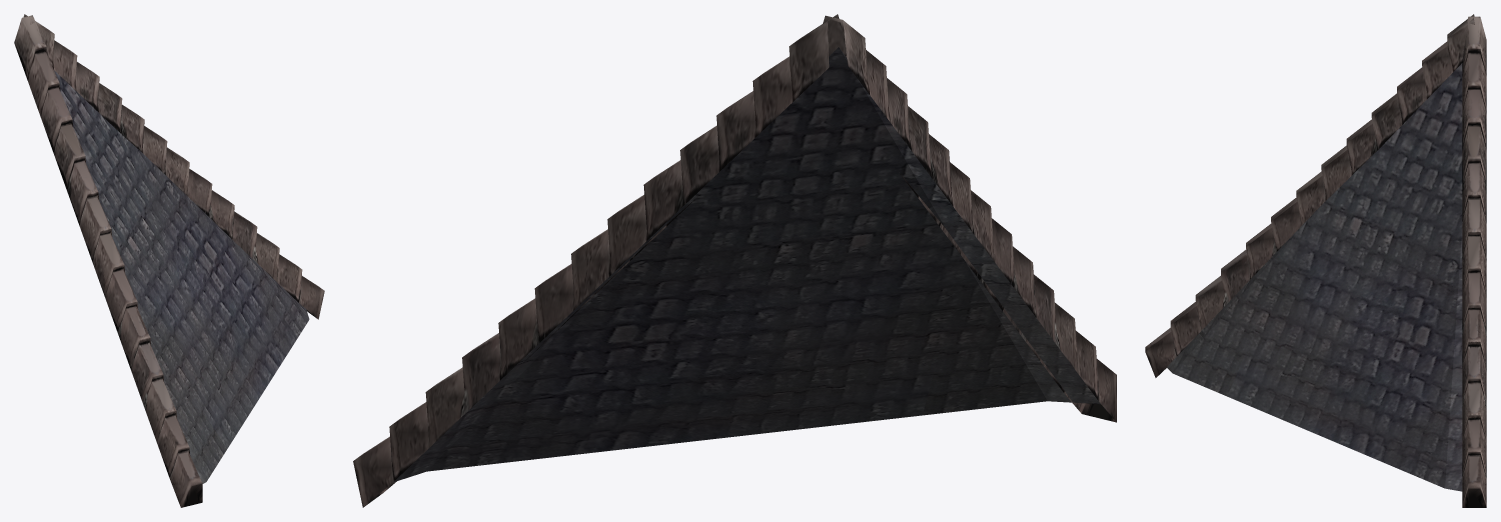
Rendered from RoofCornerDiag1x3-1A.fbx.
The picture shows the model from 3 angles, left to right: view 1: azimuth 30°, elevation 25°; view 2: azimuth 150°, elevation 25°; view 3: azimuth 270°, elevation 25°; orthographic projection. The views are drawn at different scales.
Parts seen in each view (by area): view 1: RoofCornerDiag1x3-1A; view 2: RoofCornerDiag1x3-1A; view 3: RoofCornerDiag1x3-1A.
Part boxes in pixels (x1,y1,x2,y2): RoofCornerDiag1x3-1A: [14, 14, 324, 507]; RoofCornerDiag1x3-1A: [353, 14, 1116, 507]; RoofCornerDiag1x3-1A: [1145, 14, 1486, 507].
Size of the model in its own units: 282 by 325 by 282.
